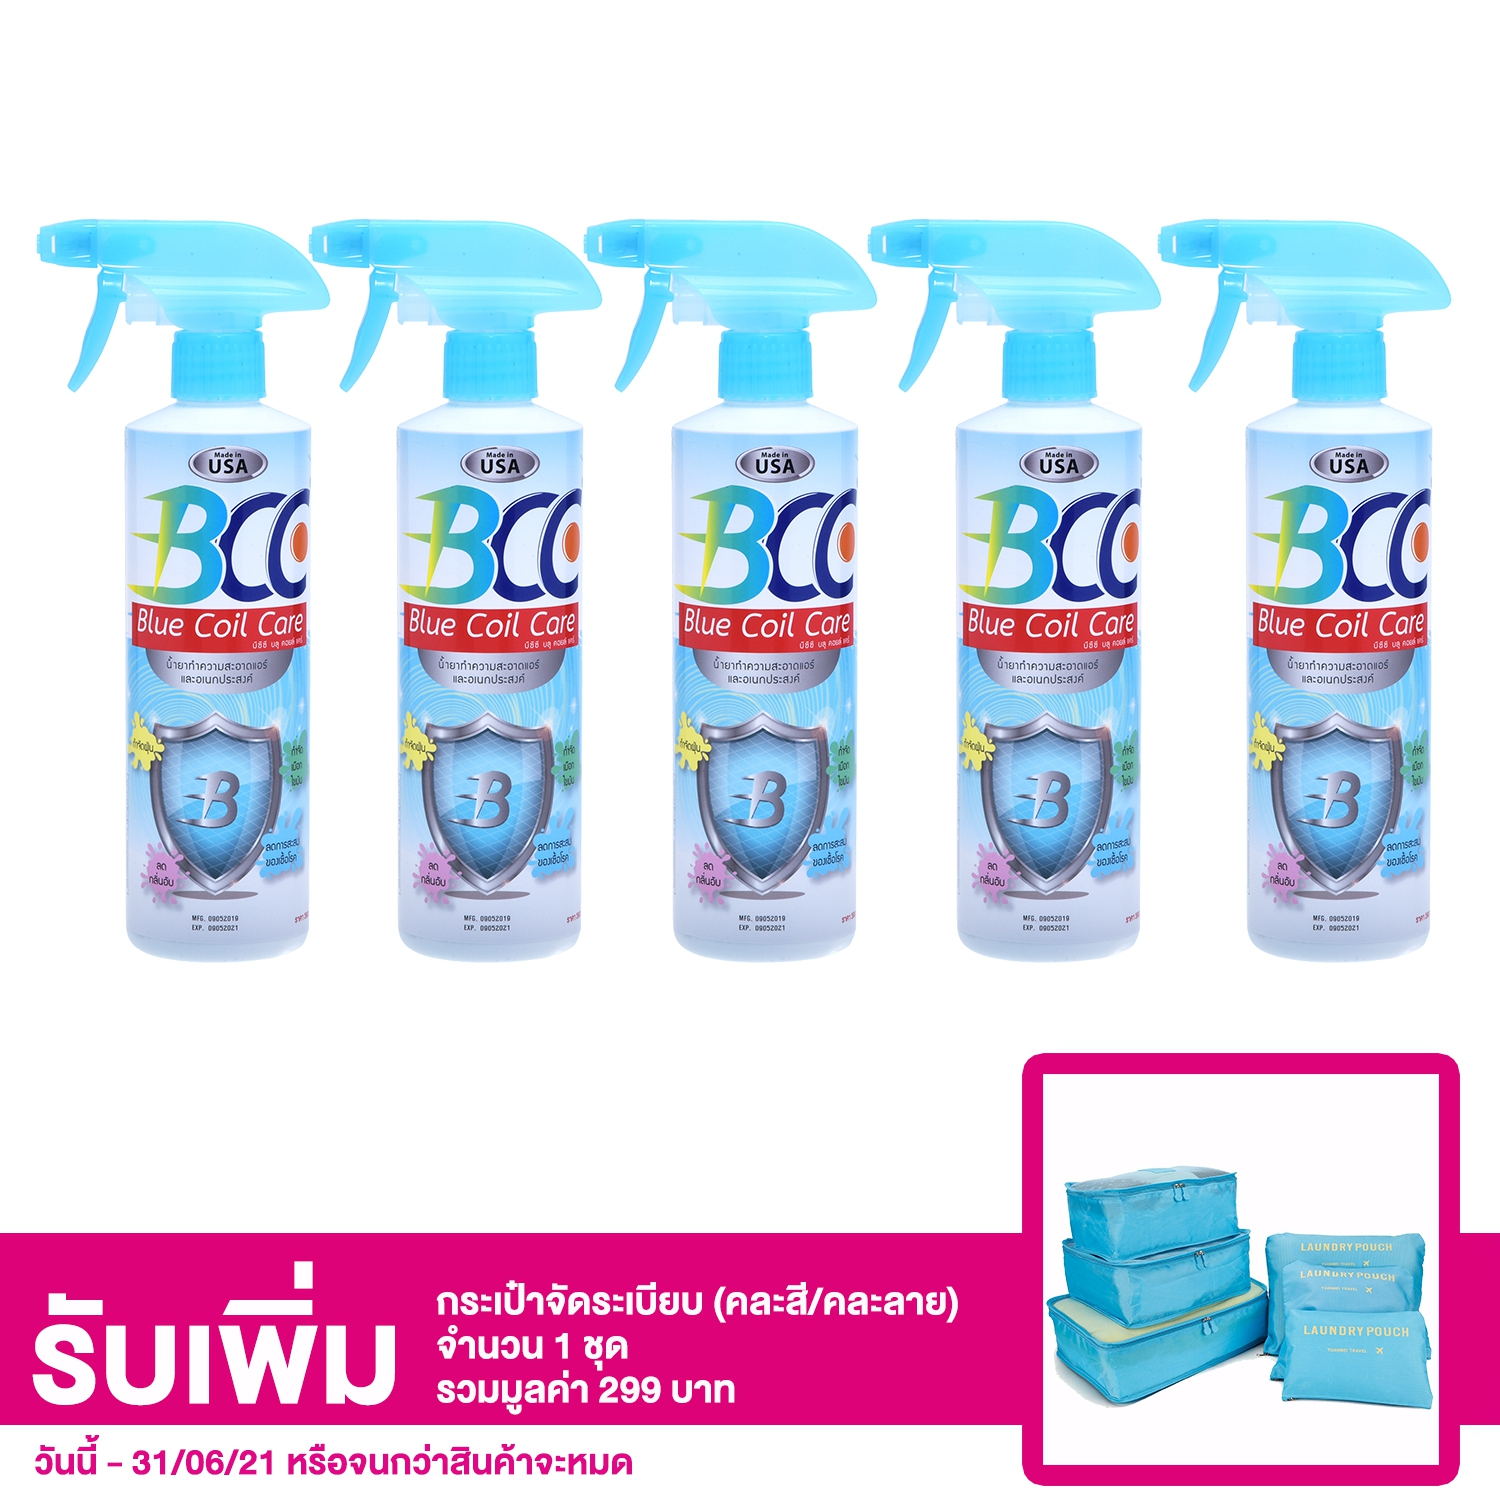Cleaning_solution: (23, 192, 337, 988), (576, 212, 887, 975), (1155, 199, 1462, 970), (301, 207, 604, 975), (865, 205, 1165, 968)
